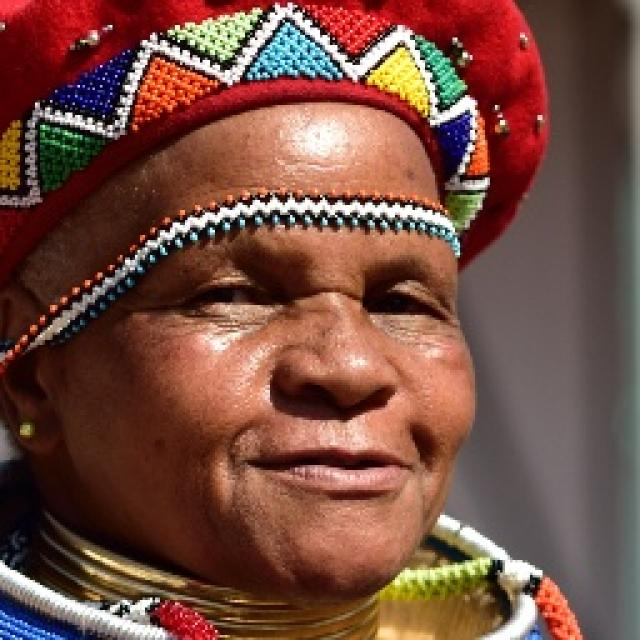earlobe: (0, 285, 64, 456)
